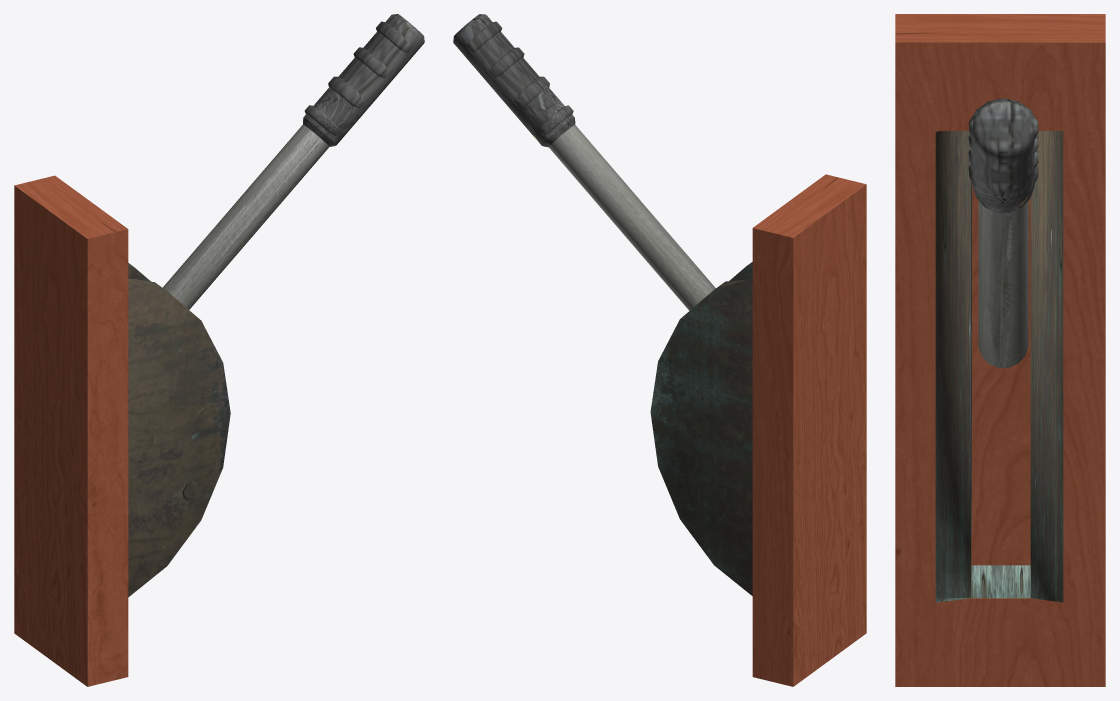
File: JeterRLever_Final.fbx
The picture shows the model from 3 angles, left to right: view 1: azimuth 30°, elevation 25°; view 2: azimuth 150°, elevation 25°; view 3: azimuth 270°, elevation 25°; orthographic projection. The views are drawn at different scales.
Visible parts, largest first — view 1: polySurface8, polySurface7; view 2: polySurface8, polySurface7; view 3: polySurface8, polySurface7.
Part boxes in pixels (left/top/right/bottom): polySurface8: left=14, top=175, right=230, bottom=686; polySurface7: left=162, top=14, right=424, bottom=309; polySurface8: left=650, top=174, right=866, bottom=686; polySurface7: left=453, top=14, right=715, bottom=310; polySurface8: left=895, top=14, right=1105, bottom=686; polySurface7: left=968, top=98, right=1038, bottom=367.
Size of the model in its own units: 6.17 by 8.87 by 2.11.
